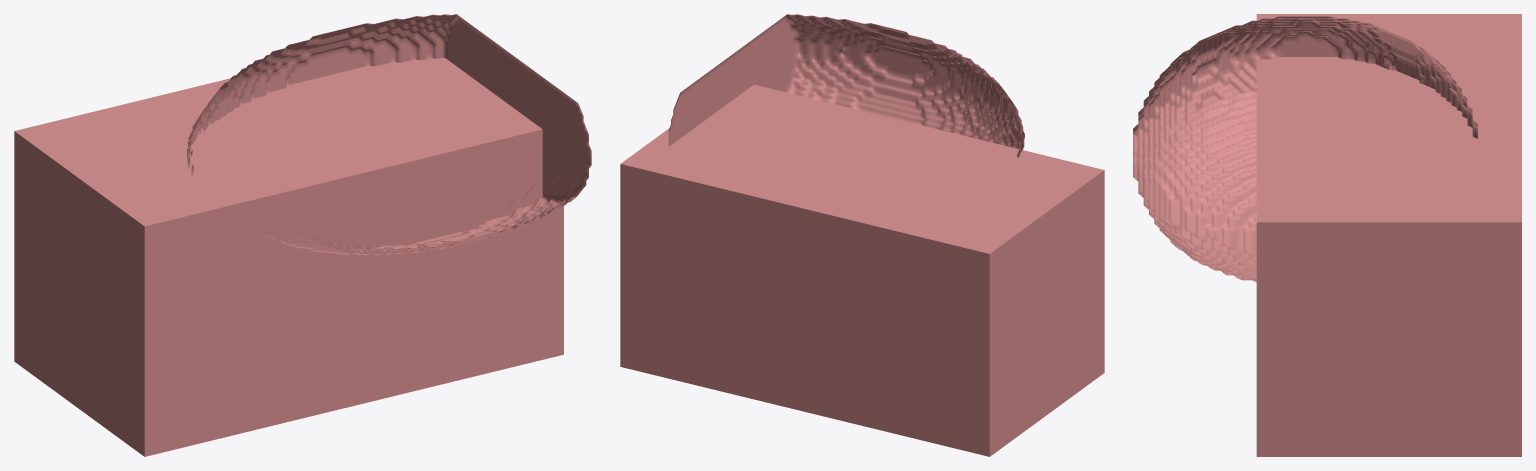
Rendered from 199537_occ.glb.
3 renders of one model, left to right at view 1: azimuth 30°, elevation 25°; view 2: azimuth 150°, elevation 25°; view 3: azimuth 270°, elevation 25°, orthographic. The views are drawn at different scales.
Visible parts, largest first — view 1: world; view 2: world; view 3: world.
Part boxes in pixels (x1=…): world: x1=14, y1=14, x2=591, y2=456; world: x1=620, y1=14, x2=1104, y2=456; world: x1=1133, y1=14, x2=1521, y2=456.
Size of the model in its own units: 9.29 by 6.03 by 7.33.
